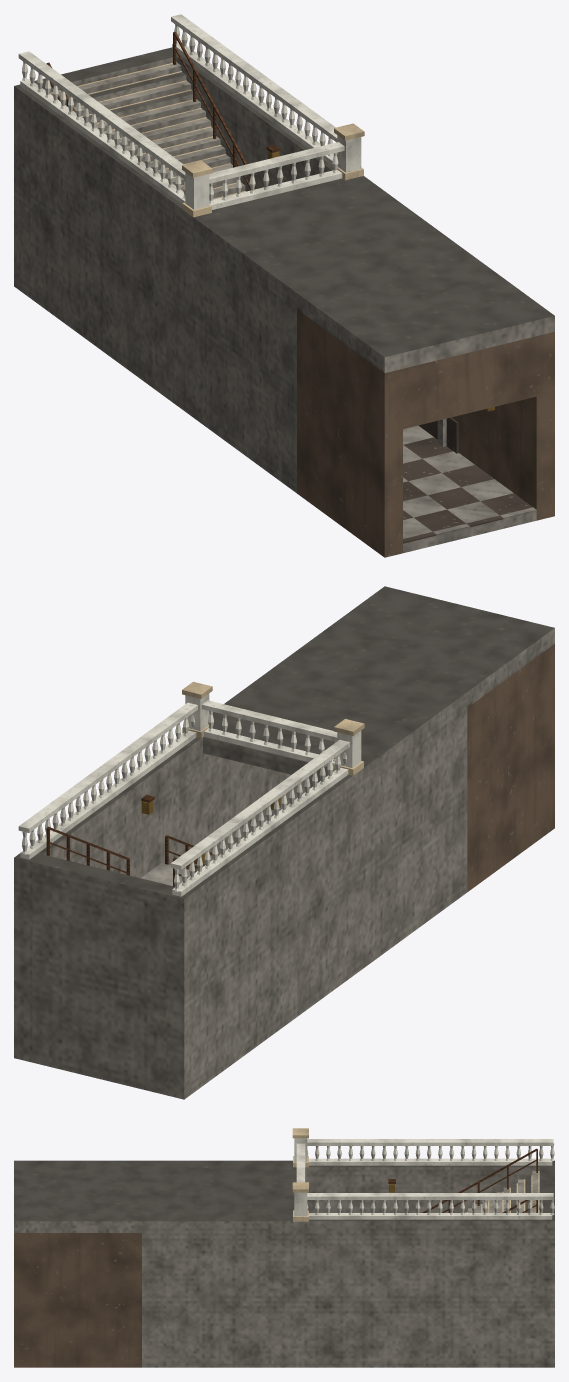
The model's file is LotteWorld_A11.fbx.
The picture shows the model from 3 angles, top to bottom: view 1: azimuth 30°, elevation 25°; view 2: azimuth 150°, elevation 25°; view 3: azimuth 270°, elevation 25°; orthographic projection. The views are drawn at different scales.
Parts seen in each view (by area): view 1: Static_LW_StoneGrey, Static_LW_Rock, Static_LW_CreamWhite, Static_LW_RockDark, Static_LW_WarmBeige, Static_LW_Timber; view 2: Static_LW_StoneGrey, Static_LW_CreamWhite, Static_LW_Rock, Static_LW_Timber, Static_LW_WarmBeige; view 3: Static_LW_StoneGrey, Static_LW_Rock, Static_LW_CreamWhite, Static_LW_WarmBeige, Static_LW_Timber.
Part boxes in pixels (bbox=[...]): Static_LW_StoneGrey: bbox=[14, 47, 554, 553]; Static_LW_Rock: bbox=[297, 309, 554, 557]; Static_LW_CreamWhite: bbox=[18, 14, 361, 209]; Static_LW_RockDark: bbox=[403, 417, 532, 543]; Static_LW_WarmBeige: bbox=[50, 62, 364, 217]; Static_LW_Timber: bbox=[46, 31, 280, 189]; Static_LW_StoneGrey: bbox=[14, 586, 554, 1099]; Static_LW_CreamWhite: bbox=[18, 693, 361, 896]; Static_LW_Rock: bbox=[467, 644, 554, 891]; Static_LW_Timber: bbox=[46, 794, 218, 886]; Static_LW_WarmBeige: bbox=[182, 681, 364, 775]; Static_LW_StoneGrey: bbox=[14, 1160, 554, 1367]; Static_LW_Rock: bbox=[14, 1233, 141, 1367]; Static_LW_CreamWhite: bbox=[294, 1138, 554, 1219]; Static_LW_WarmBeige: bbox=[292, 1128, 539, 1221]; Static_LW_Timber: bbox=[388, 1148, 537, 1212].
Size of the model in its own units: 5.64 by 7.69 by 21.12.
